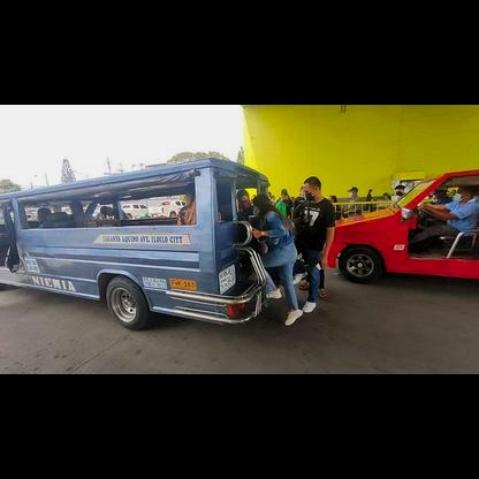jeepney: (0, 148, 261, 333)
